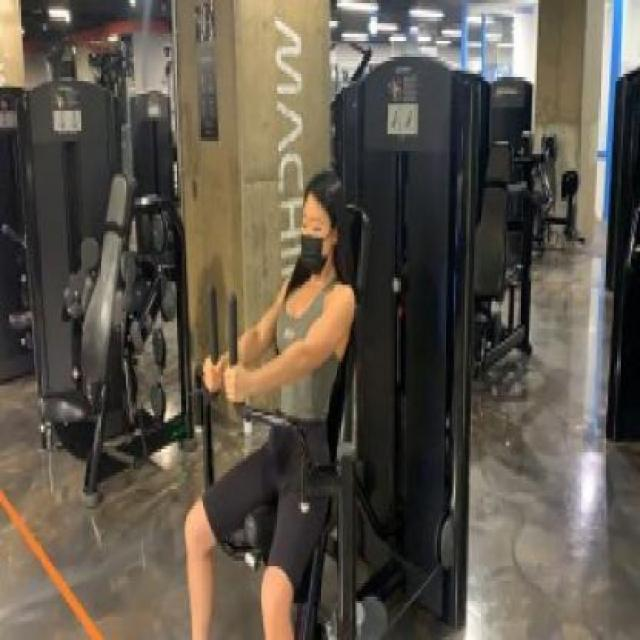chest fly machine: (180, 29, 497, 640)
